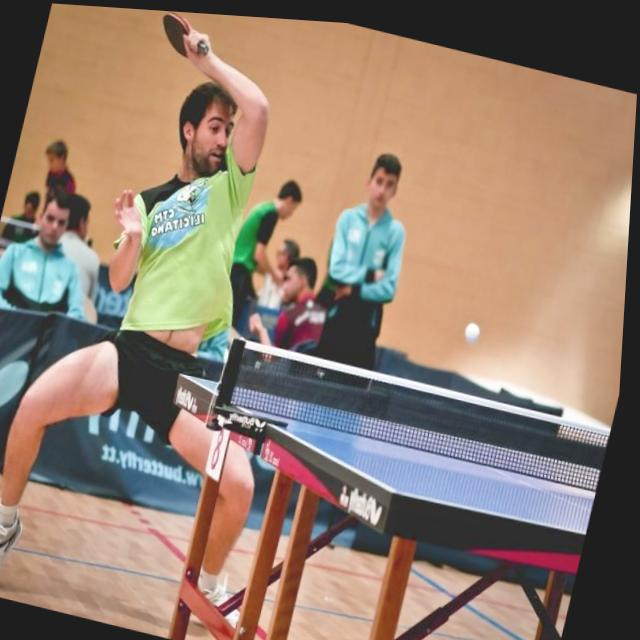TT Net: (208, 334, 611, 499)
TT Racket: (155, 11, 198, 64)
TT Table: (181, 374, 600, 534)
